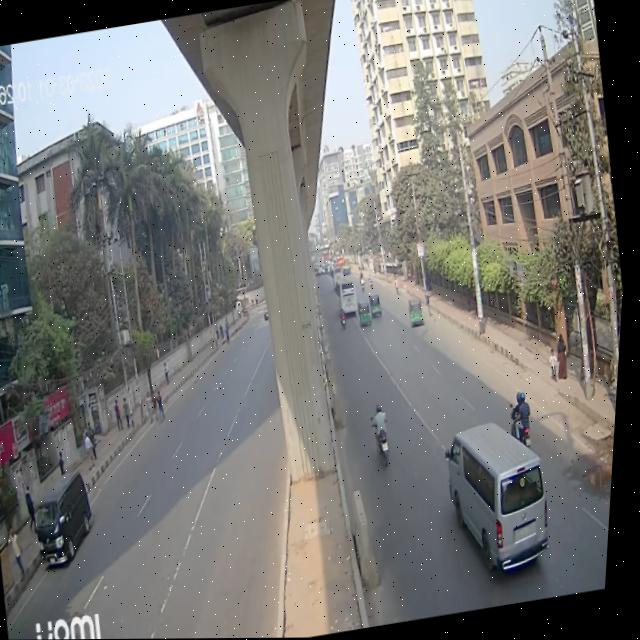cng: (408, 289, 432, 332), (368, 288, 390, 327), (358, 295, 378, 333)
